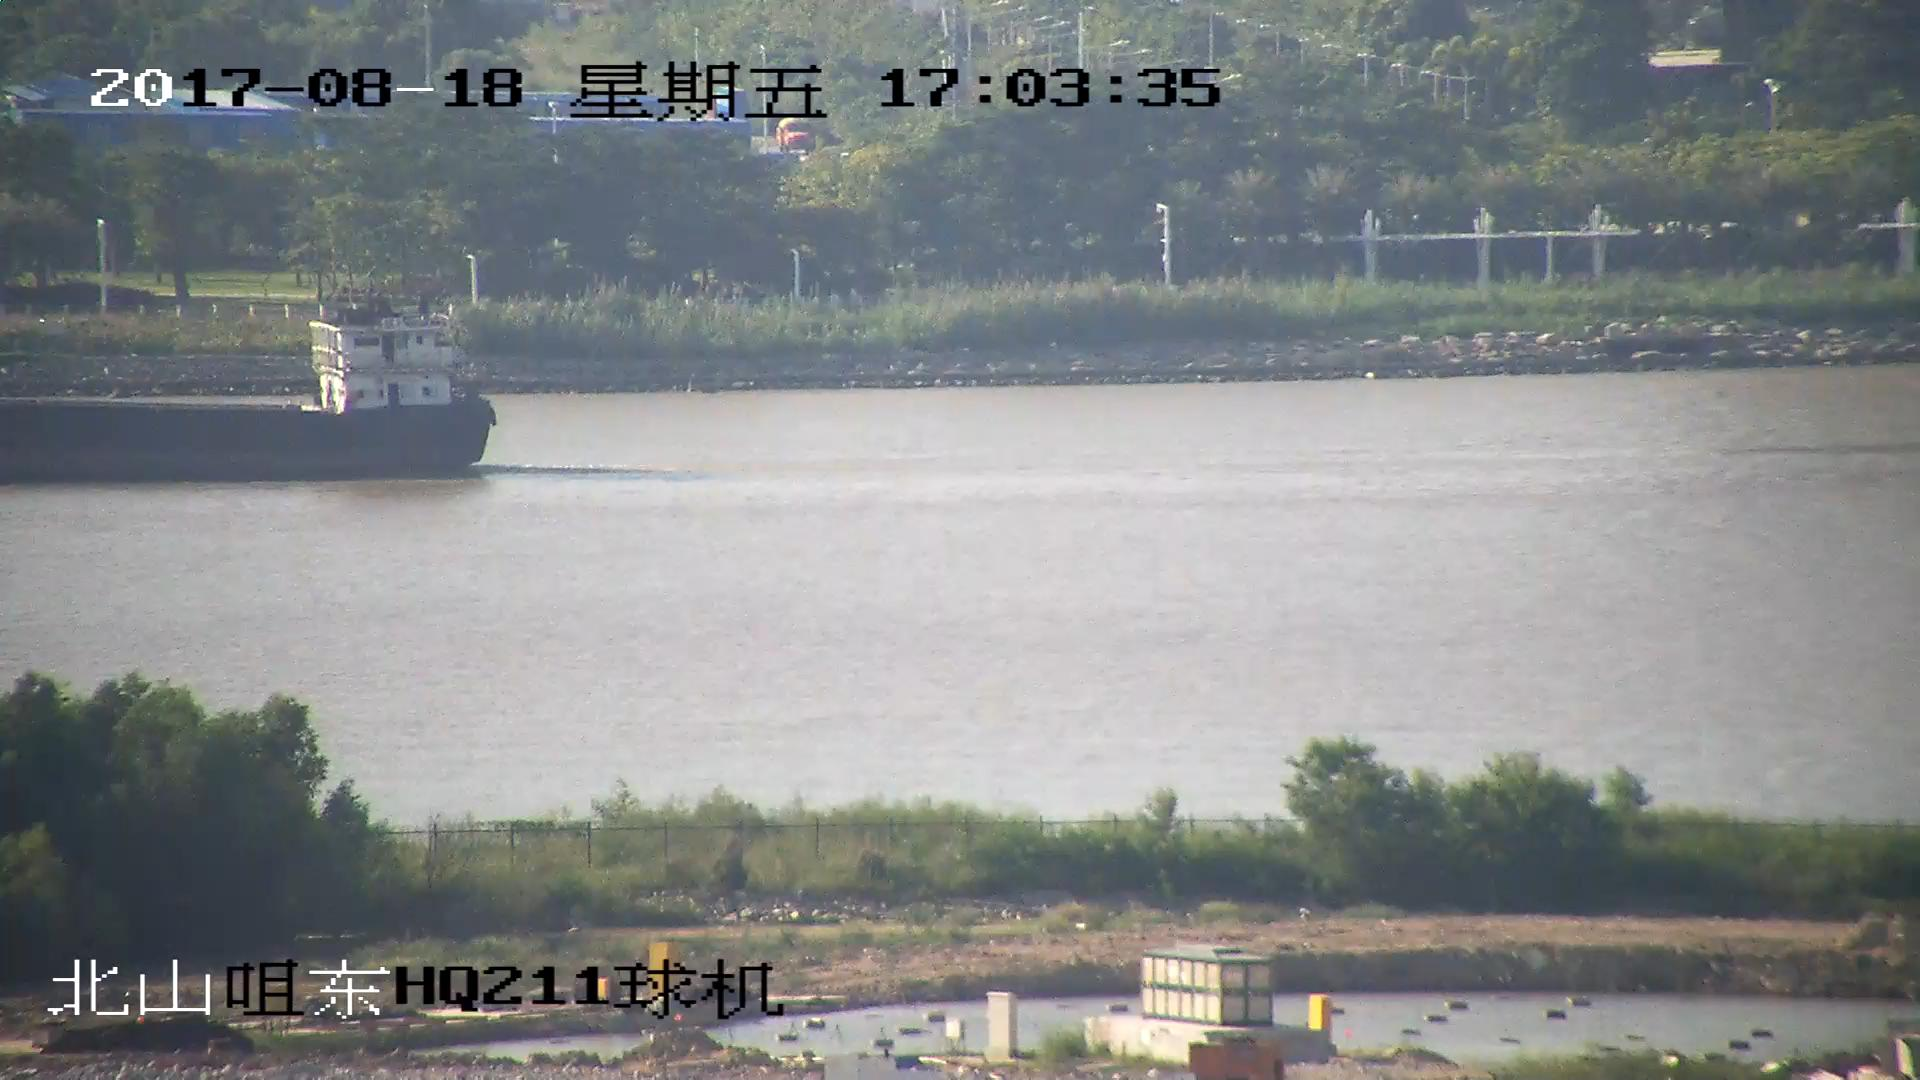general cargo ship: (1, 295, 495, 475)
